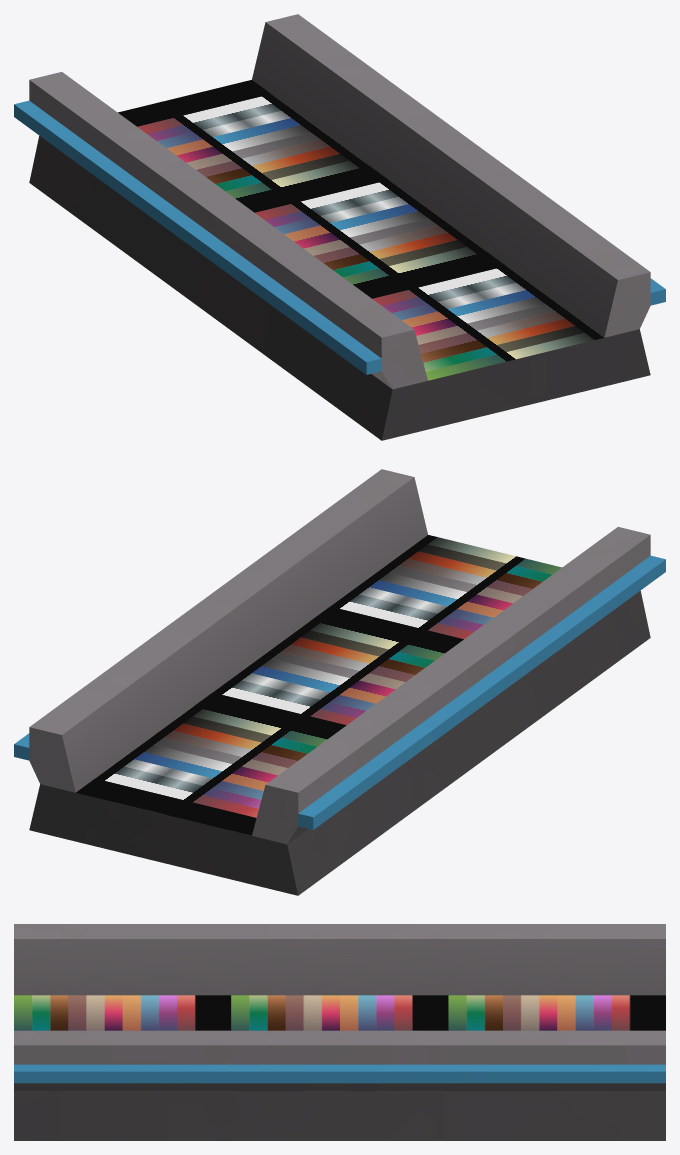
Rendered from TwoPartBelt.fbx.
3 views of the same model, one above another, from view 1: azimuth 30°, elevation 25°; view 2: azimuth 150°, elevation 25°; view 3: azimuth 270°, elevation 25° (orthographic). The views are drawn at different scales.
Visible parts, largest first — view 1: Frame, Belt; view 2: Frame, Belt; view 3: Frame, Belt.
Boxes of the visible parts, x1,y1,x2,y2 form: Frame: (14,14,665,440); Belt: (118,80,603,380); Frame: (14,469,665,895); Belt: (76,535,561,835); Frame: (14,924,665,1140); Belt: (14,995,665,1030).
Bounding box in the file's own units: 2.94 × 6 × 0.9682.
